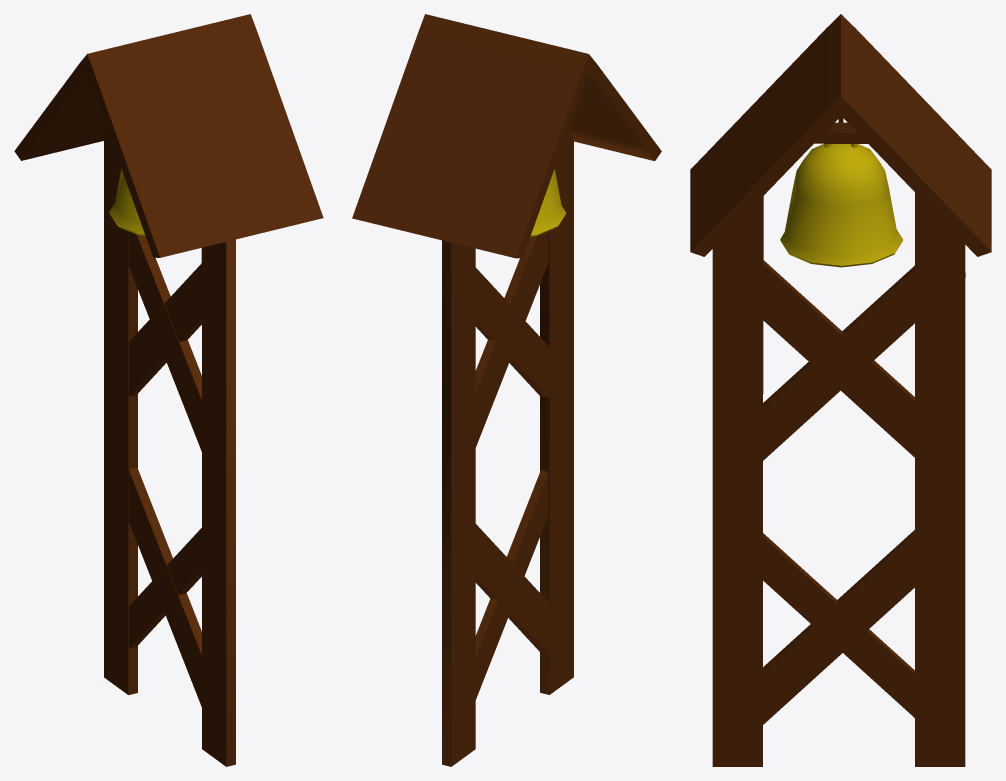
The model's file is I_Tower_Bell.fbx.
3 renders of one model, left to right at view 1: azimuth 30°, elevation 25°; view 2: azimuth 150°, elevation 25°; view 3: azimuth 270°, elevation 25°, orthographic. The views are drawn at different scales.
Visible parts, largest first — view 1: Cube.004, Torus; view 2: Cube.004, Torus; view 3: Cube.004, Torus.
Part boxes in pixels (bbox=[...]): Cube.004: bbox=[14, 14, 323, 766]; Torus: bbox=[109, 168, 145, 236]; Cube.004: bbox=[352, 14, 661, 766]; Torus: bbox=[530, 169, 566, 237]; Cube.004: bbox=[690, 14, 991, 766]; Torus: bbox=[780, 144, 903, 267].
Size of the model in its own units: 570 by 2288 by 881.
